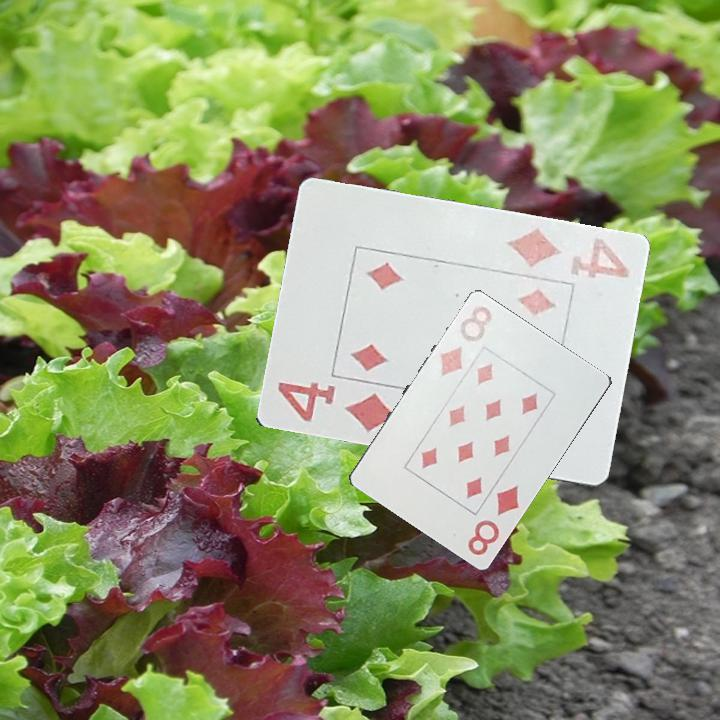4d: (503, 224, 632, 286), (273, 378, 401, 437)
8d: (463, 482, 522, 559), (437, 303, 495, 380)
